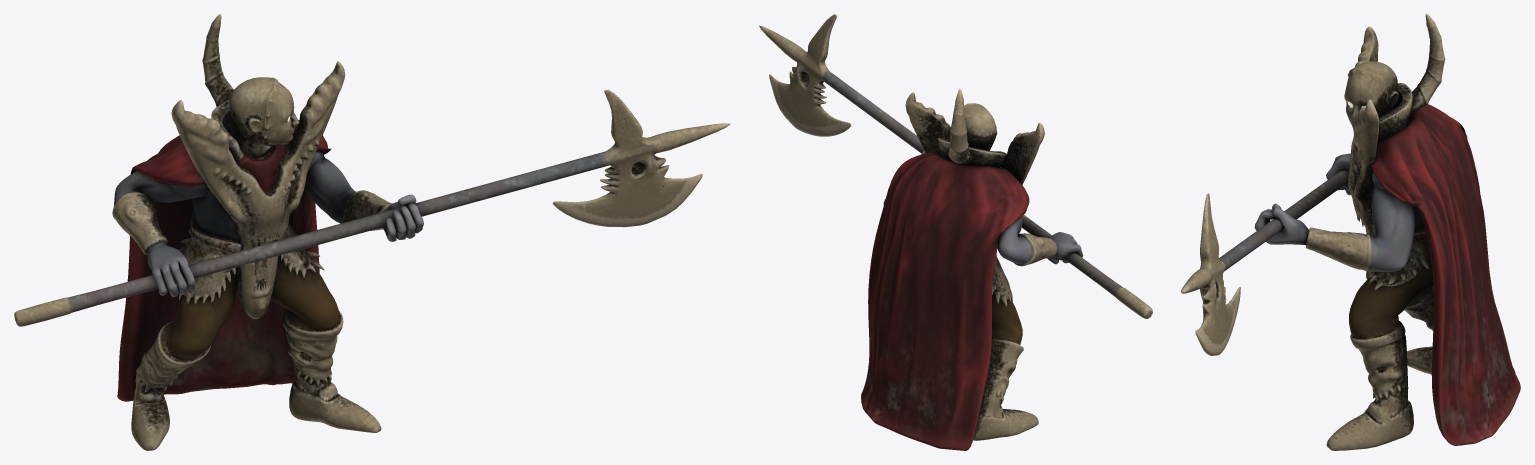
The model's file is MZ4250 - Merregon.glb.
3 renders of one model, left to right at view 1: azimuth 30°, elevation 25°; view 2: azimuth 150°, elevation 25°; view 3: azimuth 270°, elevation 25°, orthographic. The views are drawn at different scales.
Parts seen in each view (by area): view 1: Merregon.001; view 2: Merregon.001; view 3: Merregon.001.
Boxes of the visible parts, left/top/right/bottom form: Merregon.001: left=14, top=14, right=730, bottom=450; Merregon.001: left=759, top=14, right=1152, bottom=450; Merregon.001: left=1181, top=14, right=1520, bottom=450.
Size of the model in its own units: 56.66 by 36.85 by 29.15.
Materials: 1 (1 with a texture image).
